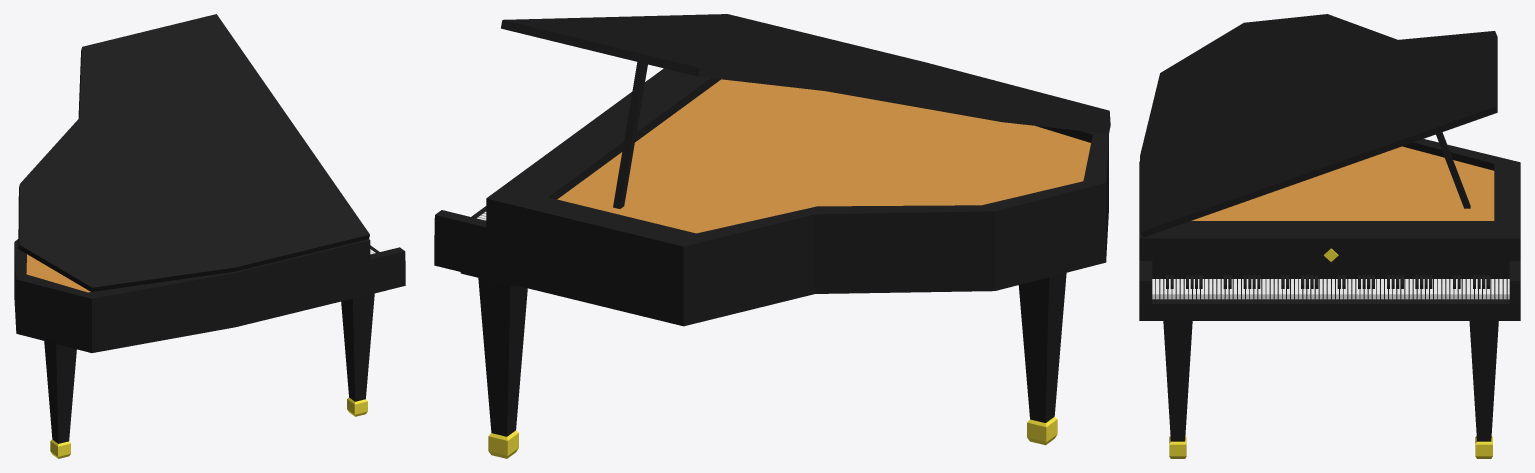
The model's file is piano.obj.
3 views of the same model, side by side, from view 1: azimuth 30°, elevation 25°; view 2: azimuth 150°, elevation 25°; view 3: azimuth 270°, elevation 25° (orthographic). The views are drawn at different scales.
Visible parts, largest first — view 1: piano_Cube.029; view 2: piano_Cube.029; view 3: piano_Cube.029.
Part boxes in pixels (<box>): piano_Cube.029: <box>14,14,405,458</box>; piano_Cube.029: <box>434,14,1110,458</box>; piano_Cube.029: <box>1139,14,1520,458</box>.
Size of the model in its own units: 12.68 by 10.65 by 10.6.
